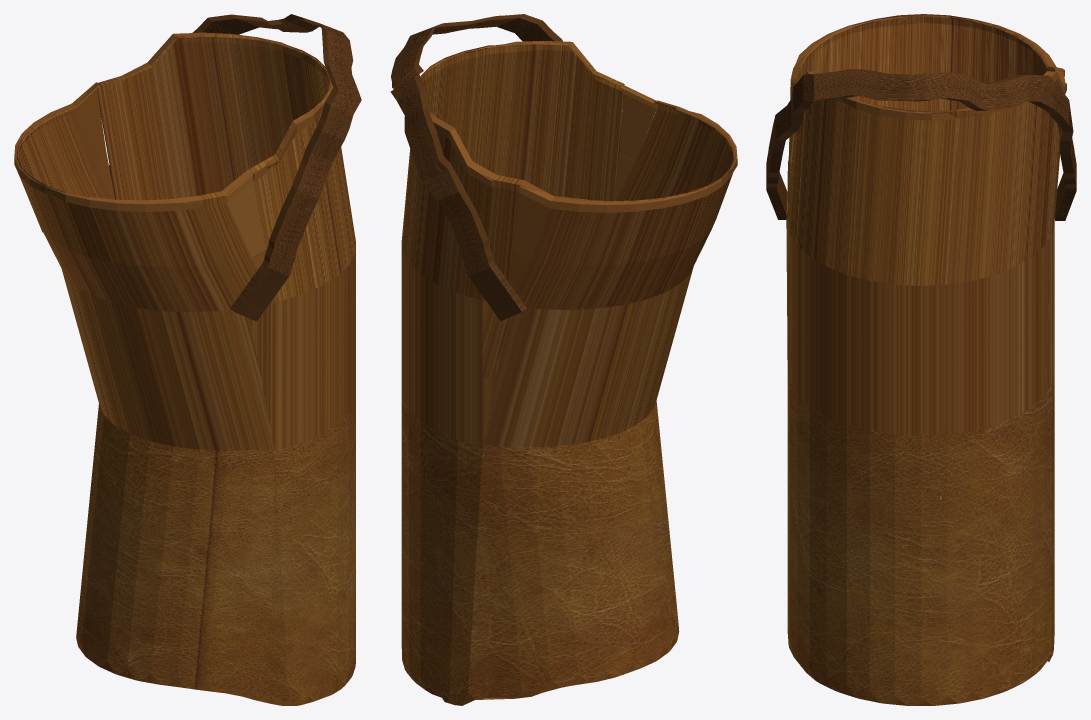
Rendered from holsterEmpty.fbx.
The picture shows the model from 3 angles, left to right: view 1: azimuth 30°, elevation 25°; view 2: azimuth 150°, elevation 25°; view 3: azimuth 270°, elevation 25°; orthographic projection.
Visible parts, largest first — view 1: holster, holsterStrap; view 2: holster, holsterStrap; view 3: holster, holsterStrap.
Boxes of the visible parts, x1=… form: holster: x1=14, y1=32, x2=355, y2=705; holsterStrap: x1=109, y1=14, x2=361, y2=321; holster: x1=401, y1=40, x2=737, y2=705; holsterStrap: x1=390, y1=14, x2=621, y2=321; holster: x1=786, y1=14, x2=1066, y2=705; holsterStrap: x1=766, y1=69, x2=1076, y2=220.
Size of the model in its own units: 175 by 329 by 148.
2 materials, 2 textured.
